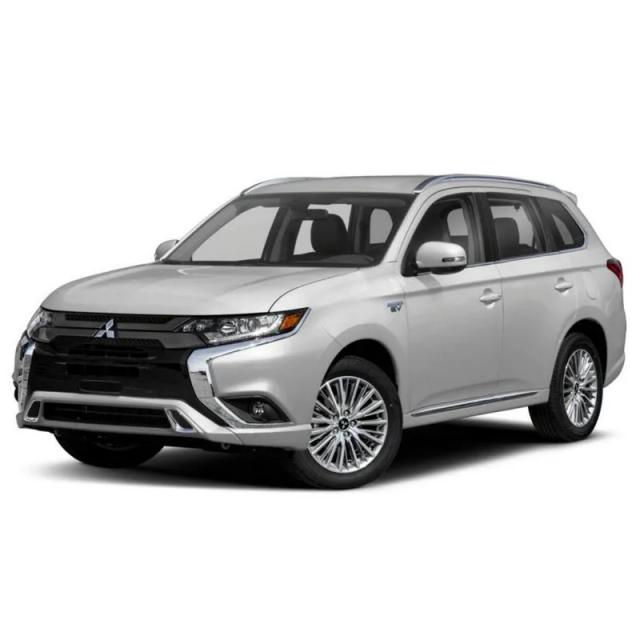light_vehicle: (13, 175, 628, 489)
